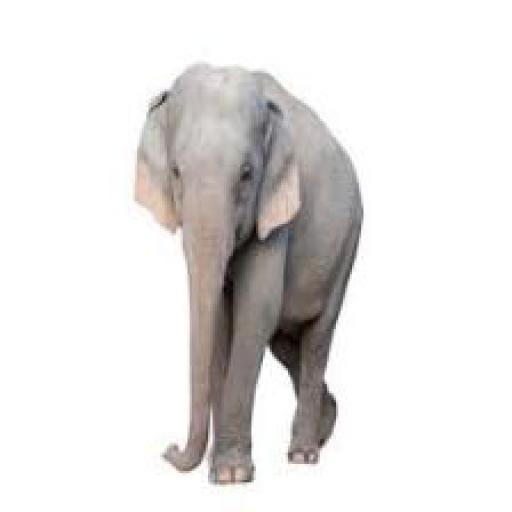Elephant: (136, 66, 362, 482)
